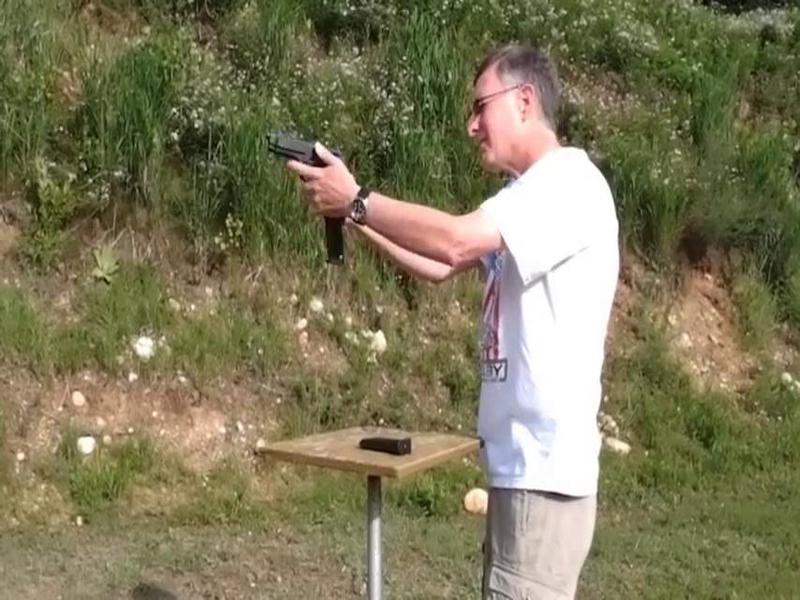Pistola: (253, 114, 381, 215)
